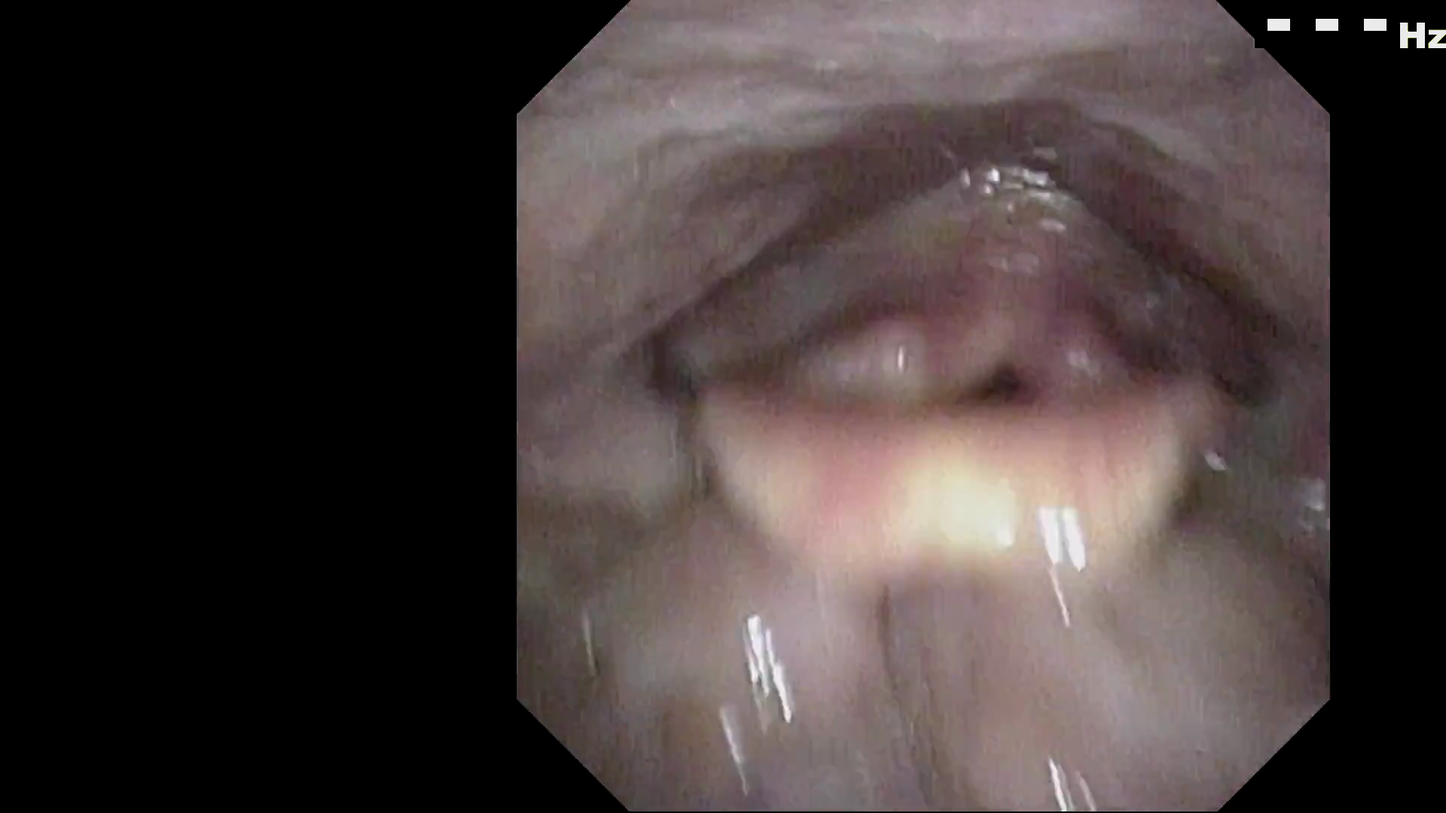epiglottis: (650, 251, 1230, 431)
trachea: (962, 390, 1056, 444)
